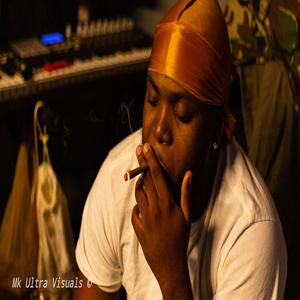cigarette: (123, 162, 151, 181)
